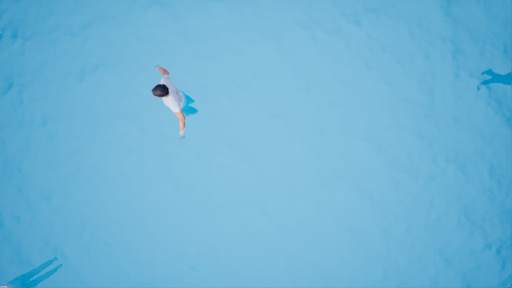person: (149, 64, 201, 137)
